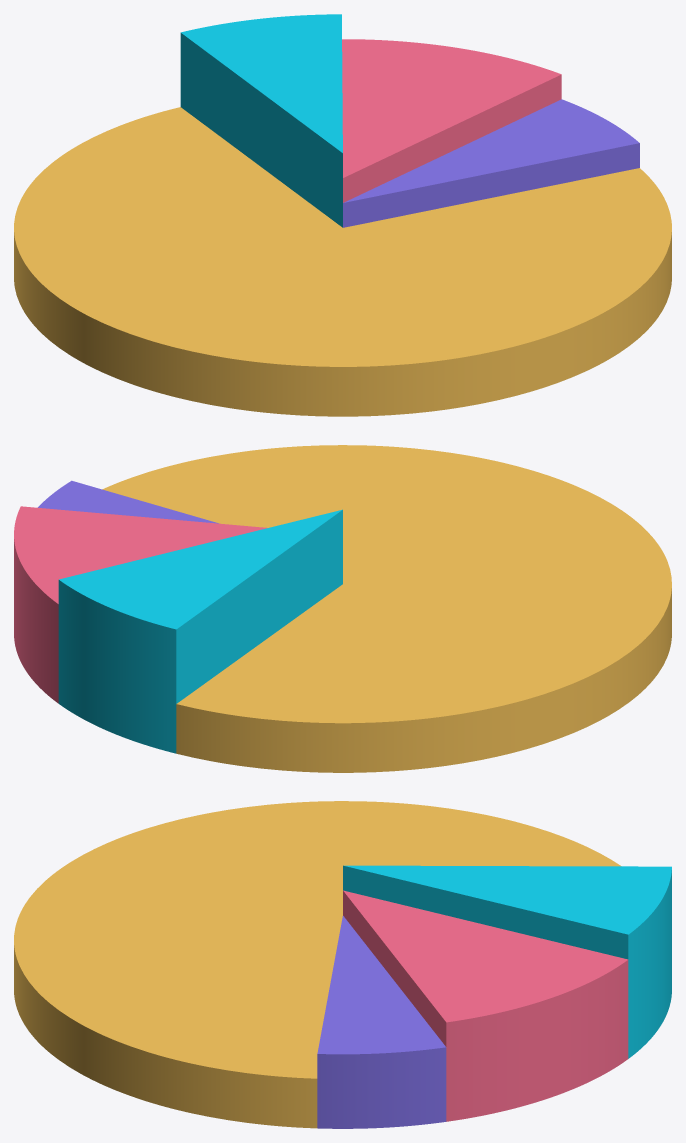
The model's file is refugees2.fbx.
3 views of the same model, one above another, from view 1: azimuth 30°, elevation 25°; view 2: azimuth 150°, elevation 25°; view 3: azimuth 270°, elevation 25° (orthographic).
Visible parts, largest first — view 1: Refugees_1_obj; view 2: Refugees_1_obj; view 3: Refugees_1_obj.
Part boxes in pixels (bbox=[...]): Refugees_1_obj: bbox=[14, 14, 671, 416]; Refugees_1_obj: bbox=[14, 445, 671, 772]; Refugees_1_obj: bbox=[14, 801, 671, 1128].
Size of the model in its own units: 2.4 by 0.5 by 2.4.
